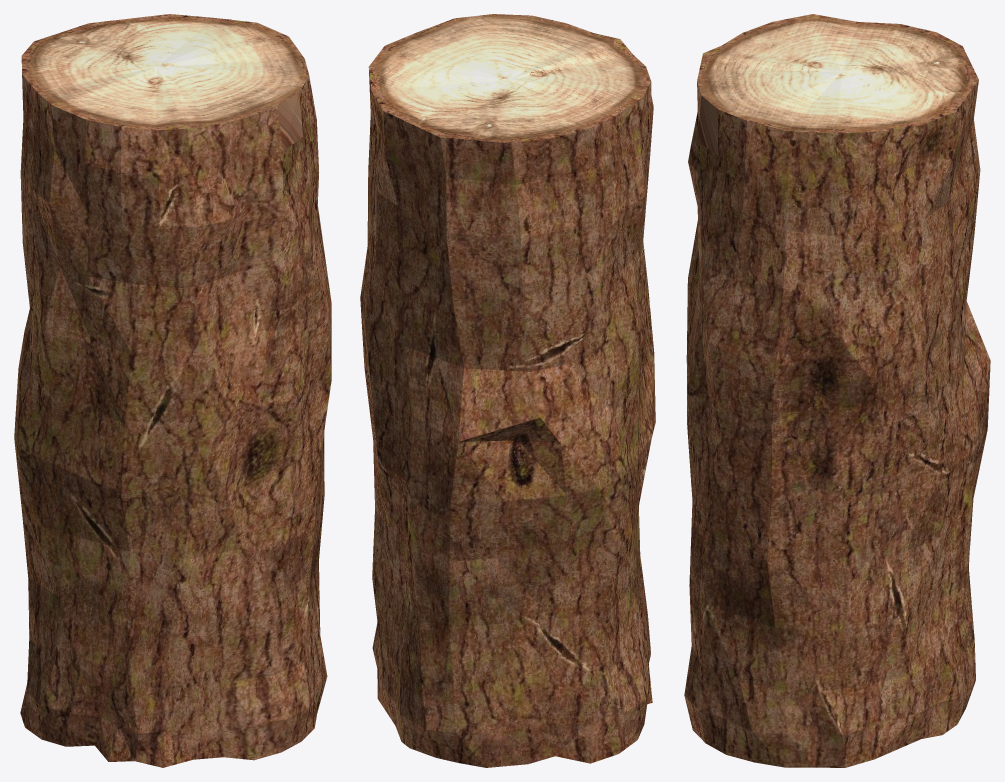
File: tronco.glb
3 renders of one model, left to right at view 1: azimuth 30°, elevation 25°; view 2: azimuth 150°, elevation 25°; view 3: azimuth 270°, elevation 25°, orthographic.
Parts seen in each view (by area): view 1: tronco; view 2: tronco; view 3: tronco.
Boxes of the visible parts, x1=… form: tronco: x1=14, y1=14, x2=331, y2=767; tronco: x1=360, y1=14, x2=655, y2=767; tronco: x1=684, y1=14, x2=990, y2=767.
Bounding box in the file's own units: 0.363 × 0.8437 × 0.368.
Materials: 1 (1 with a texture image).
